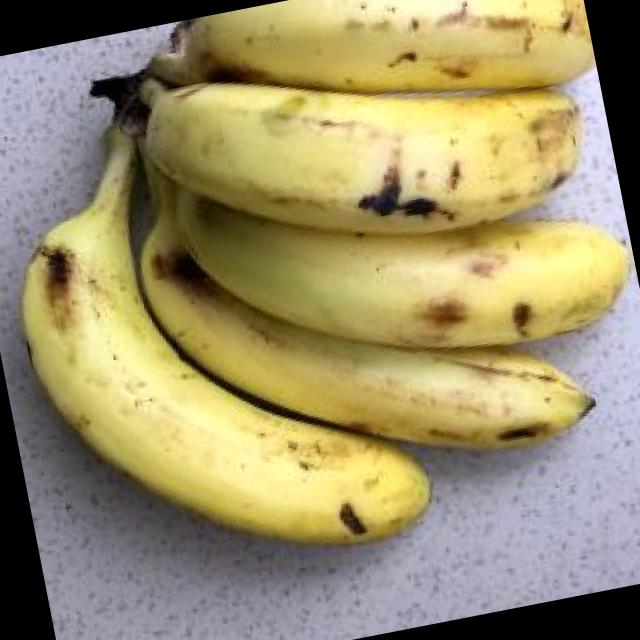banana: (59, 96, 473, 530)
